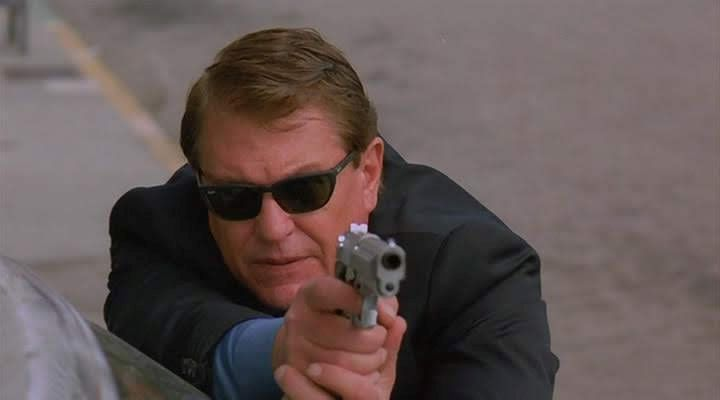gun: (322, 209, 425, 344)
